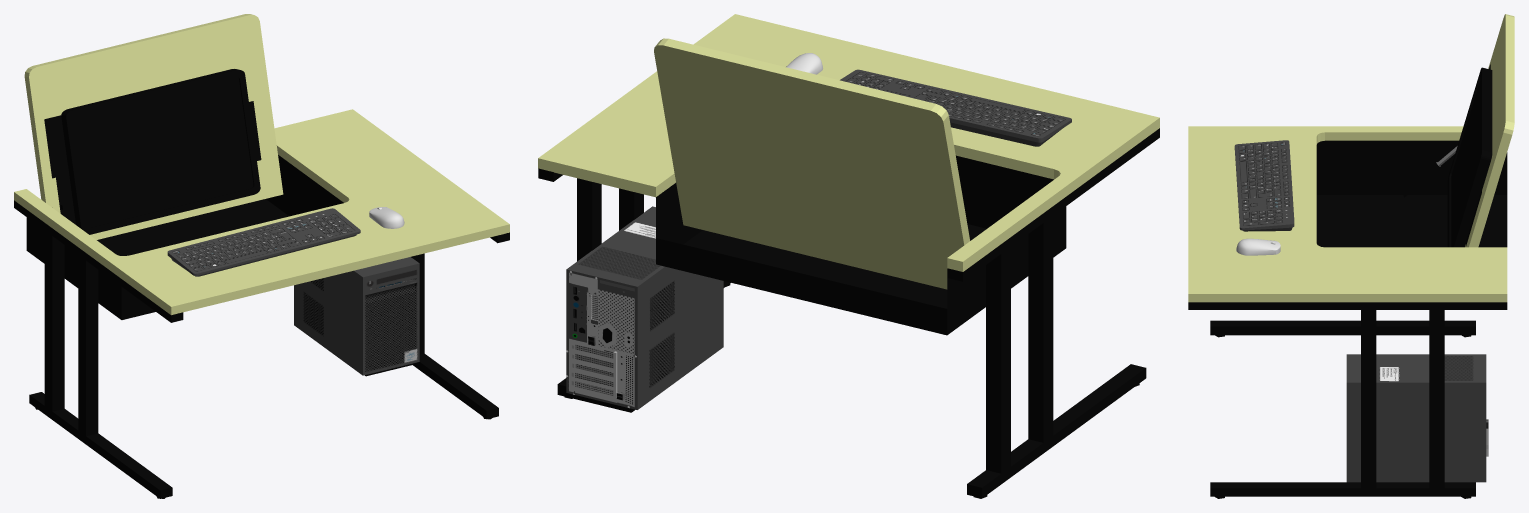
3 renders of one model, left to right at view 1: azimuth 30°, elevation 25°; view 2: azimuth 150°, elevation 25°; view 3: azimuth 270°, elevation 25°, orthographic. The views are drawn at different scales.
Parts seen in each view (by area): view 1: Table, Rabat, Tour, Clavier, Souris; view 2: Table, Rabat, Tour, Clavier; view 3: Table, Tour, Rabat, Clavier, Souris.
Boxes of the visible parts, <box> form: Table: <box>14,109,509,498</box>; Rabat: <box>24,14,283,239</box>; Tour: <box>294,257,419,375</box>; Clavier: <box>167,208,360,276</box>; Souris: <box>369,207,404,228</box>; Table: <box>538,14,1159,498</box>; Rabat: <box>654,38,969,289</box>; Tour: <box>566,206,723,409</box>; Clavier: <box>840,69,1071,146</box>; Table: <box>1188,126,1507,498</box>; Tour: <box>1346,354,1488,482</box>; Rabat: <box>1447,14,1514,247</box>; Clavier: <box>1234,140,1294,231</box>; Souris: <box>1236,238,1280,255</box>.
Bounding box in the file's own units: 249 × 227 × 205.
8 materials, 2 textured.
